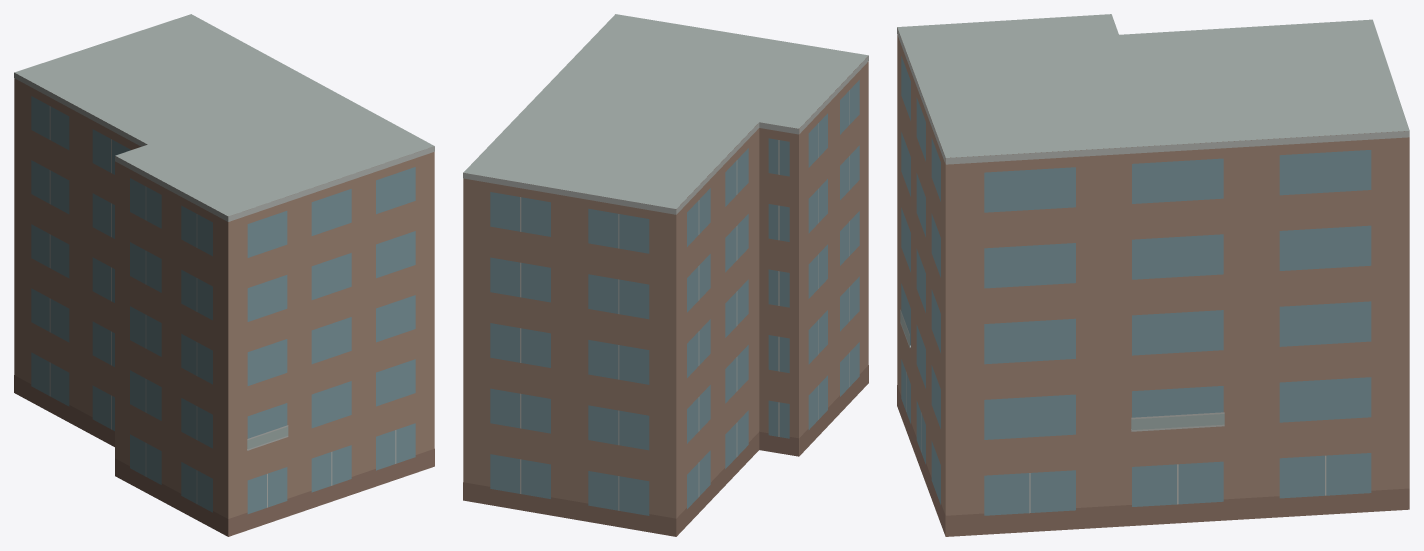
File: survey-upis-32697159.glb
3 renders of one model, left to right at view 1: azimuth 30°, elevation 25°; view 2: azimuth 150°, elevation 25°; view 3: azimuth 270°, elevation 25°, orthographic. The views are drawn at different scales.
Visible parts, largest first — view 1: survey-upis-32697159.tmp; view 2: survey-upis-32697159.tmp; view 3: survey-upis-32697159.tmp.
Part boxes in pixels (x1=…): survey-upis-32697159.tmp: x1=14, y1=14, x2=434, y2=536; survey-upis-32697159.tmp: x1=463, y1=14, x2=868, y2=536; survey-upis-32697159.tmp: x1=897, y1=14, x2=1409, y2=536.
Bounding box in the file's own units: 11.42 × 14 × 17.18.
